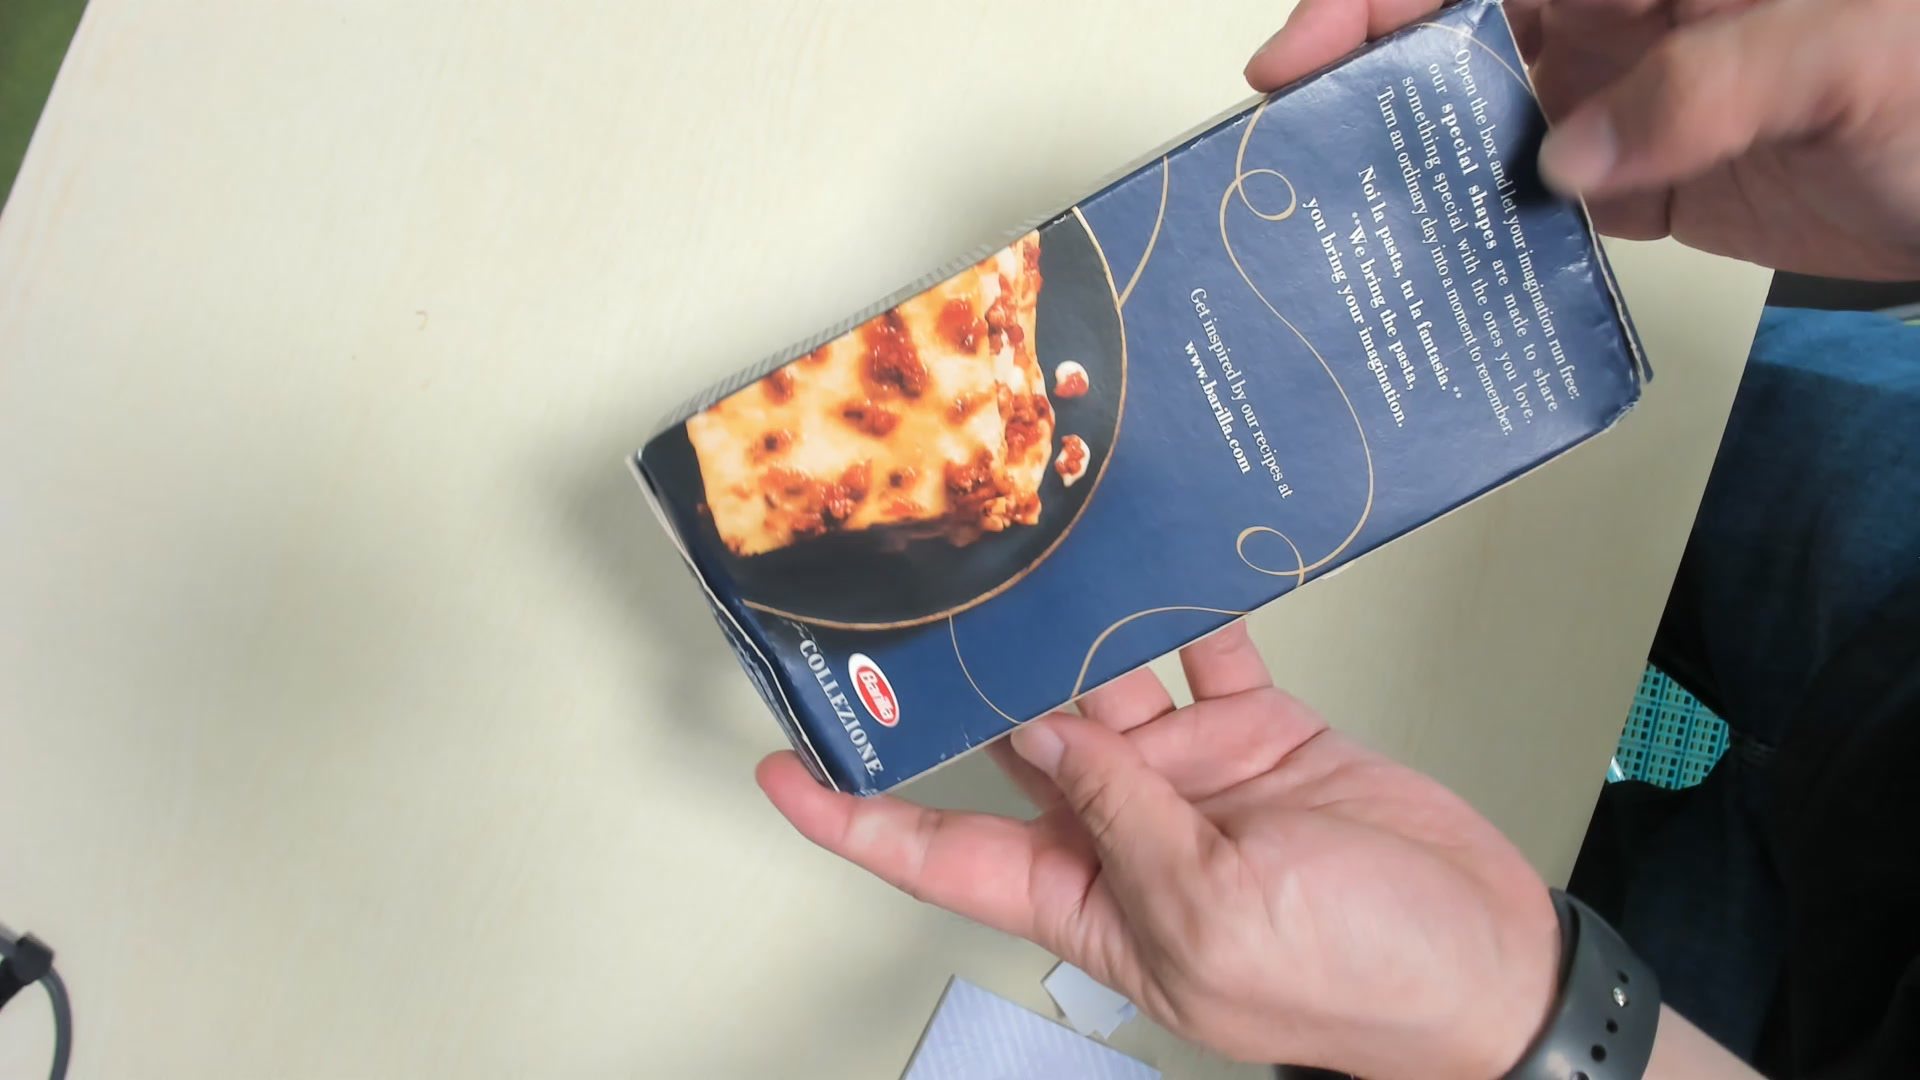InstantMeals_200_299g_NonHalal_NonHealthy: (626, 8, 1664, 803)
